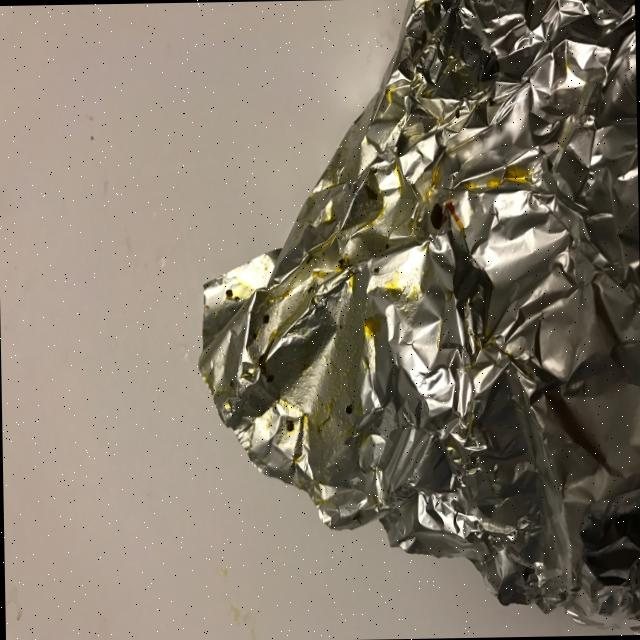metal: (191, 0, 640, 638)
